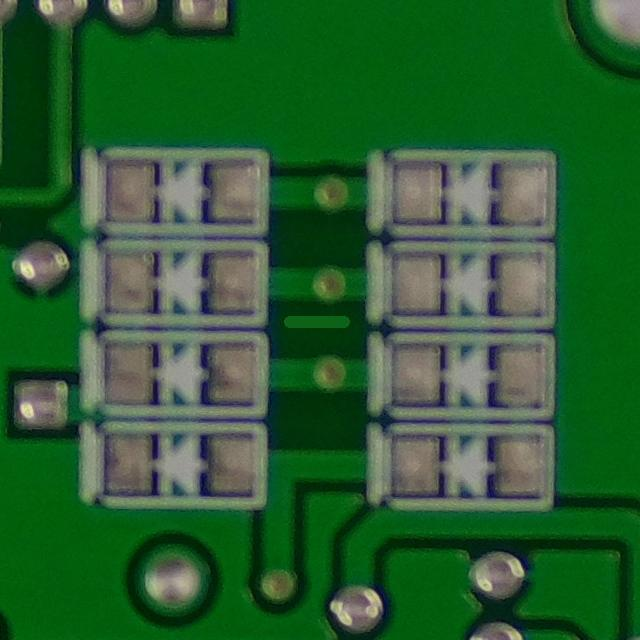spurious_copper: (270, 296, 370, 345)
